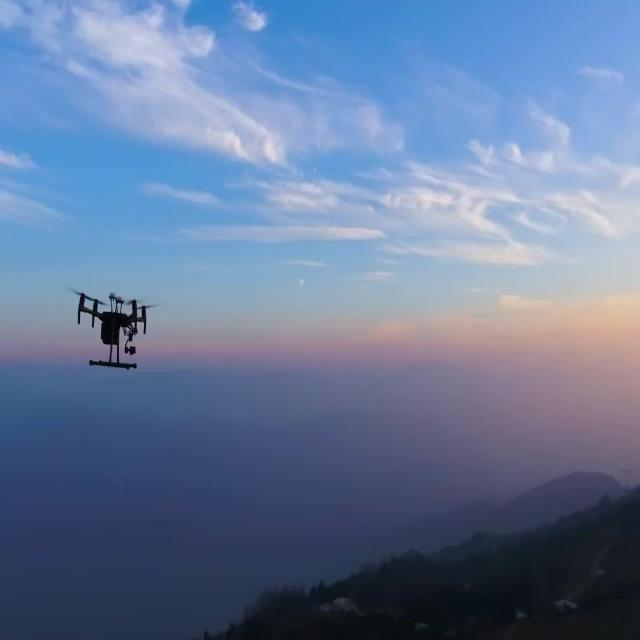UAV: (68, 288, 160, 371)
